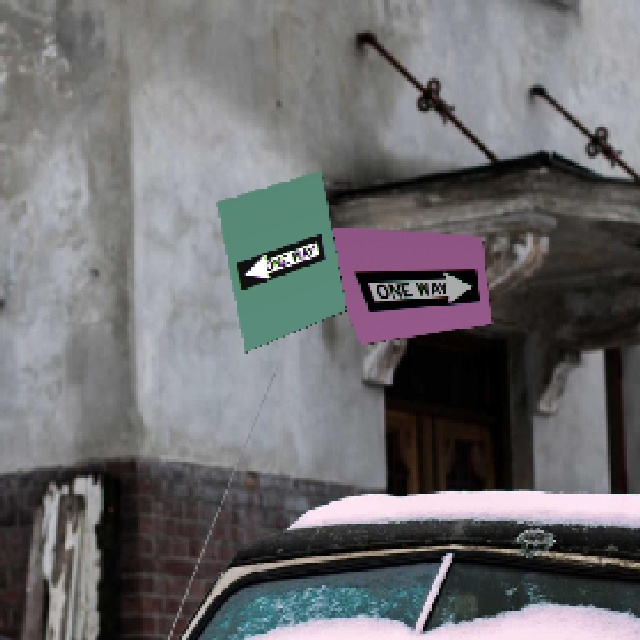ONE_WAY_ left: (232, 232, 327, 289)
ONE_WAY_ right: (353, 264, 479, 311)
